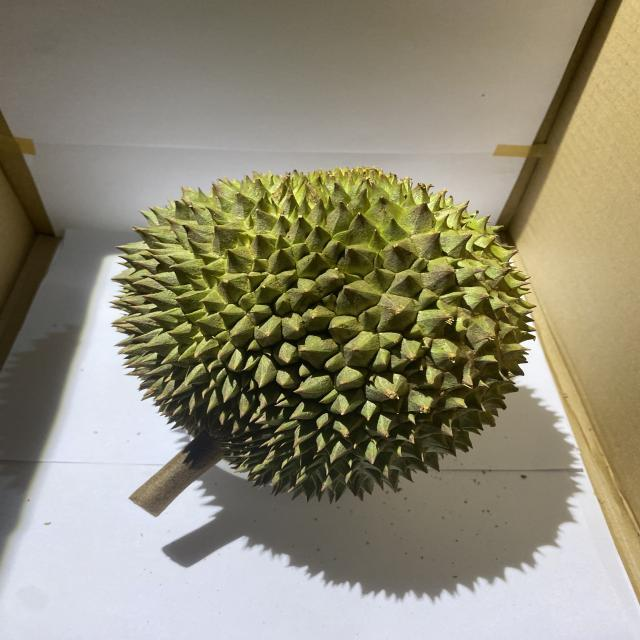immature: (106, 163, 542, 503)
